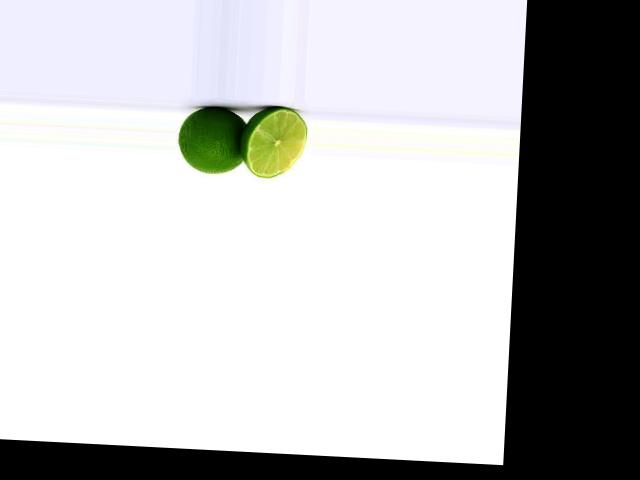lemon: (174, 100, 248, 176)
